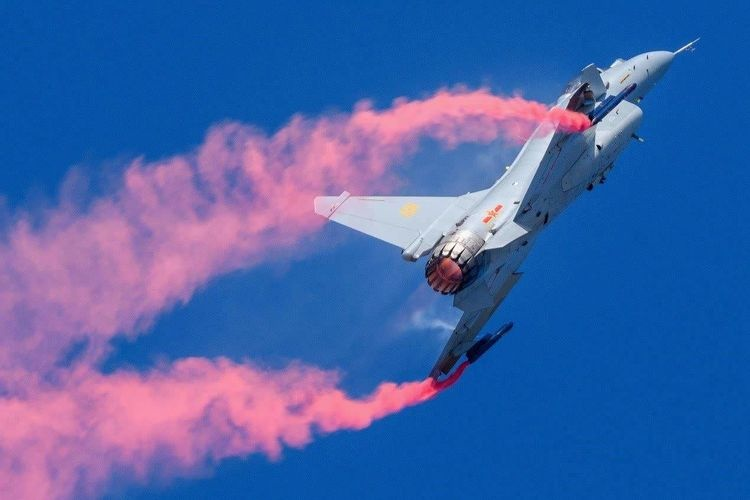airplane: (311, 32, 703, 388)
